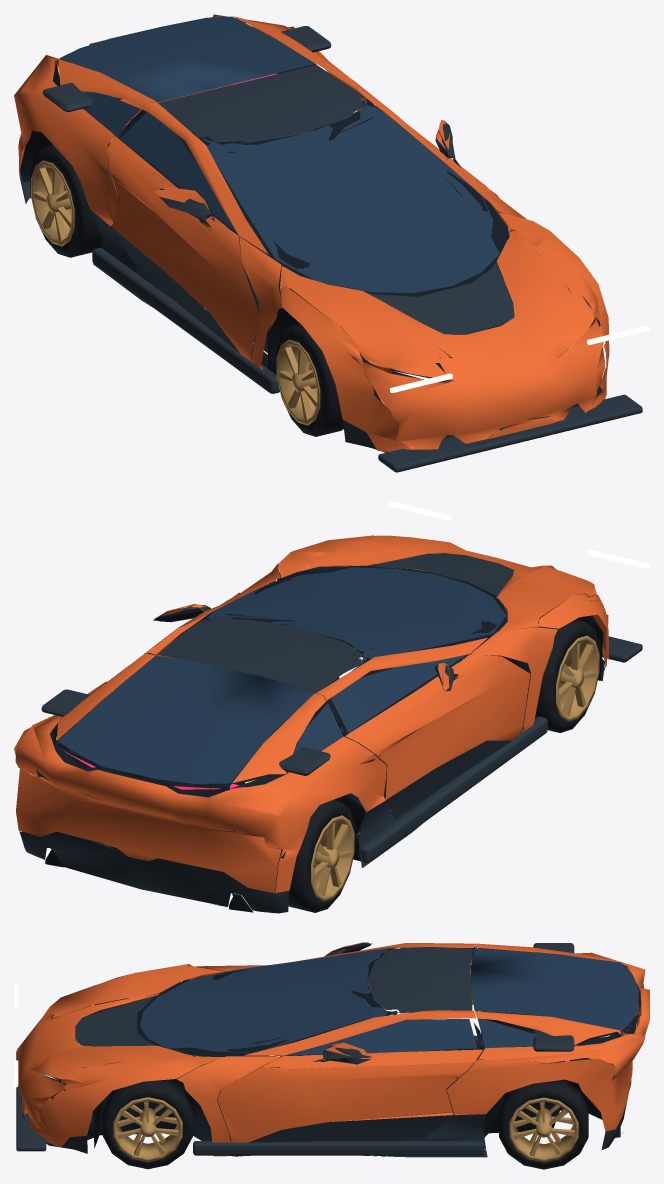
File: velour-lod2.glb
3 renders of one model, top to bottom at view 1: azimuth 30°, elevation 25°; view 2: azimuth 150°, elevation 25°; view 3: azimuth 270°, elevation 25°, orthographic. The views are drawn at different scales.
Visible parts, largest first — view 1: Body, WheelRearR, WheelFrontR; view 2: Body, WheelRearR, WheelFrontR; view 3: Body, WheelFrontL, WheelRearL.
Boxes of the visible parts, left/top/right/bottom form: Body: left=14, top=14, right=649, bottom=472; WheelRearR: left=30, top=145, right=102, bottom=257; WheelFrontR: left=275, top=323, right=343, bottom=436; Body: left=14, top=501, right=649, bottom=913; WheelRearR: left=288, top=800, right=355, bottom=912; WheelFrontR: left=535, top=619, right=600, bottom=732; Body: left=14, top=942, right=649, bottom=1157; WheelFrontL: left=103, top=1079, right=192, bottom=1169; WheelRearL: left=499, top=1080, right=588, bottom=1169.
Size of the model in its own units: 2.27 by 1.29 by 5.31.
